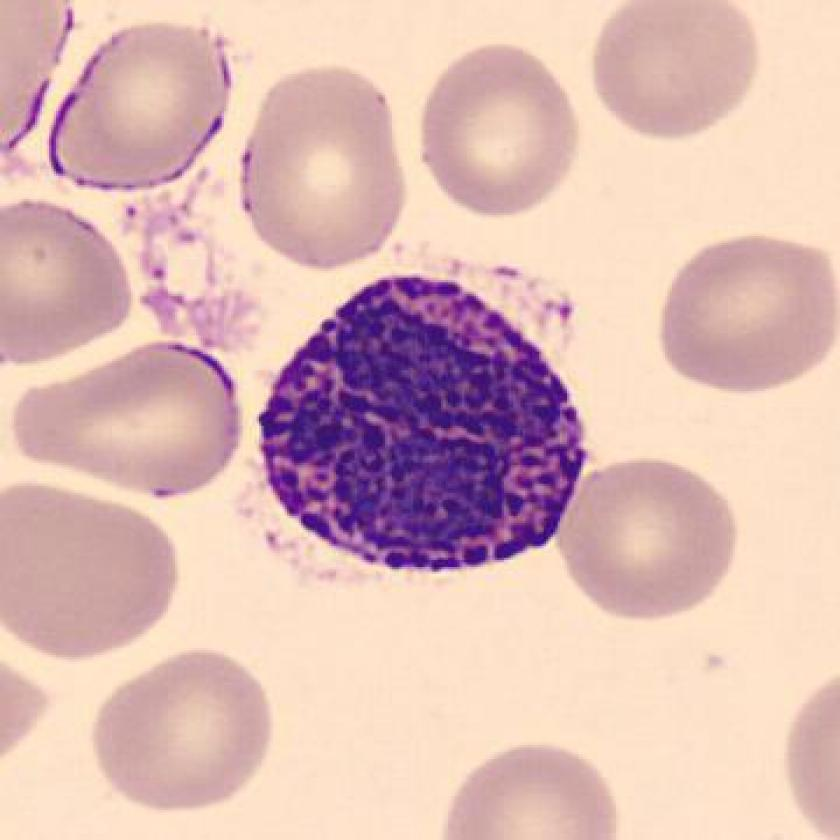basophil: (244, 267, 596, 589)
